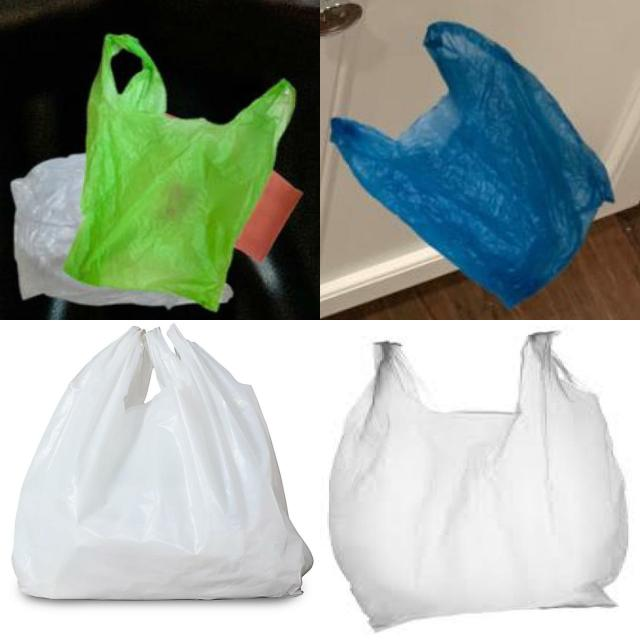Single-layer Plastic: (329, 332, 629, 626), (12, 325, 312, 599), (331, 22, 614, 307), (64, 35, 295, 311), (11, 154, 194, 307)
